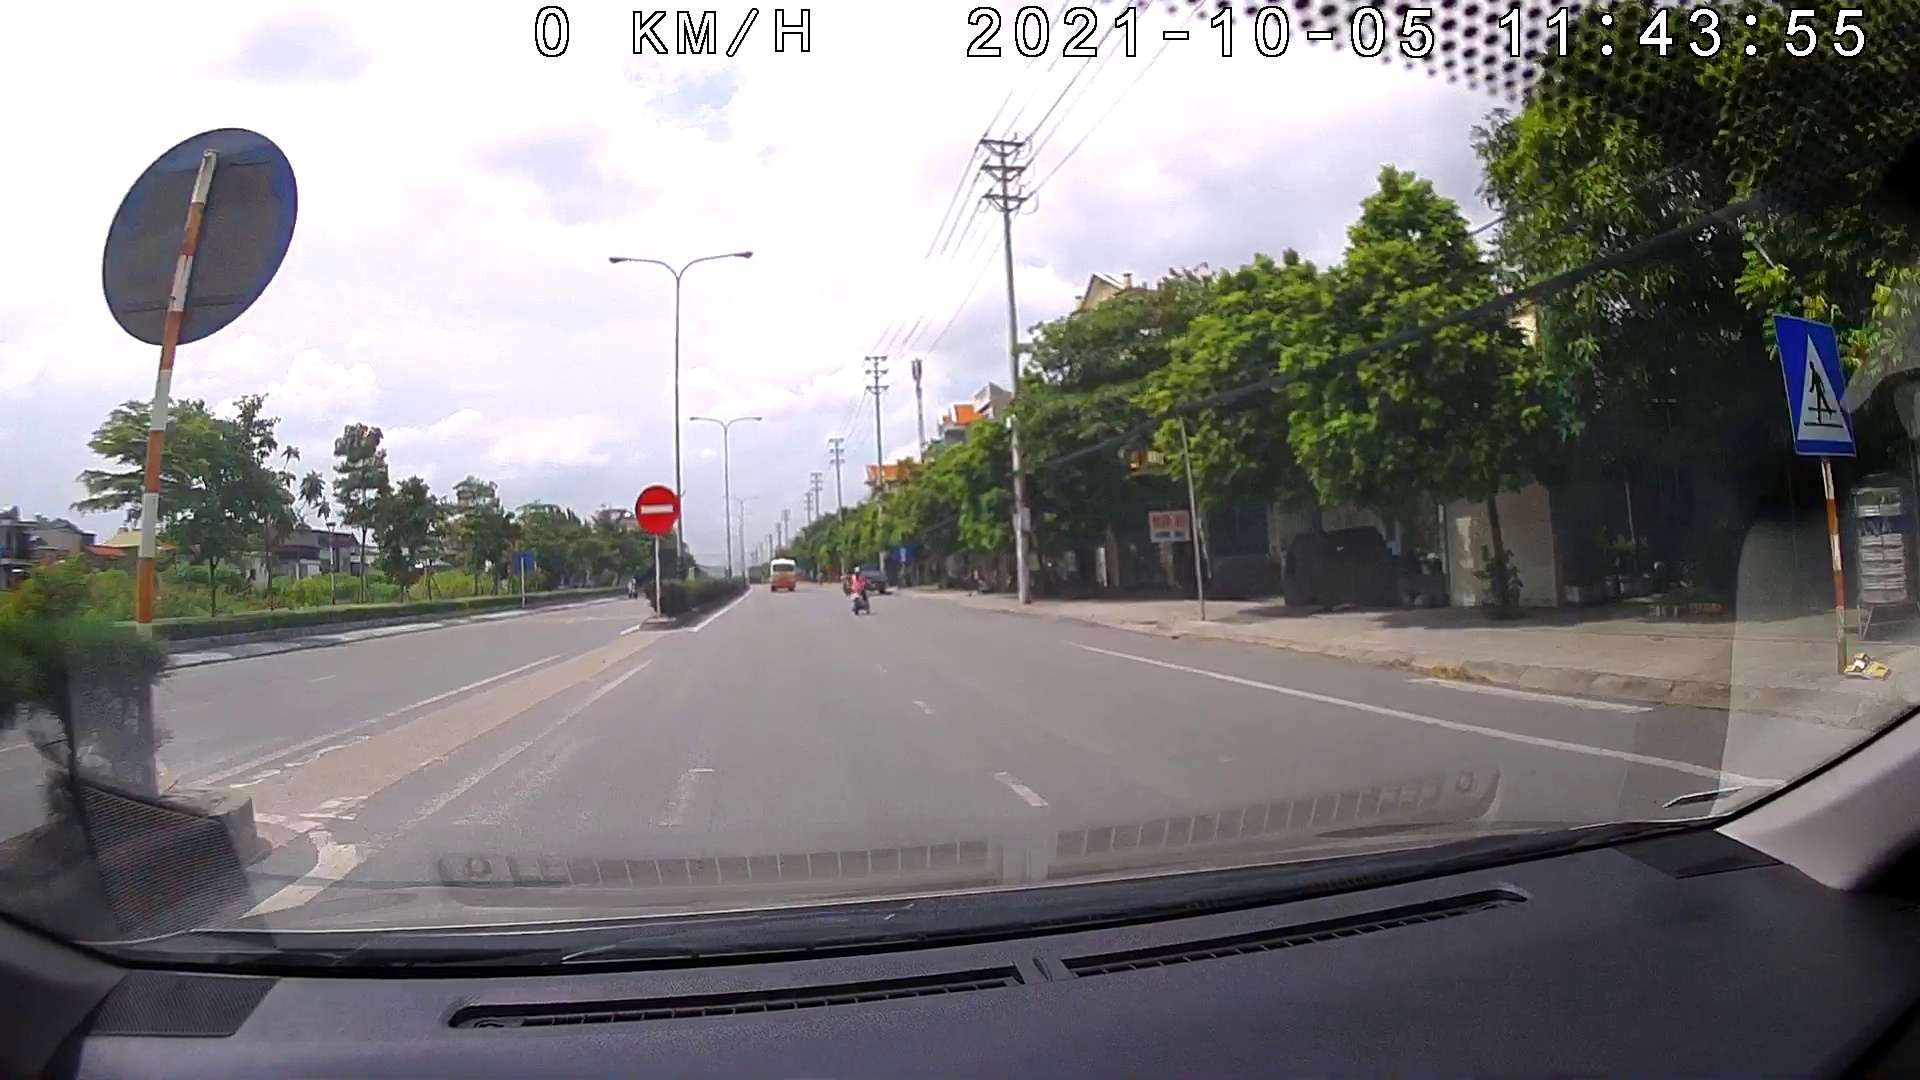Cam di nguoc chieu: (634, 483, 680, 535)
Nguoi di bo: (1768, 311, 1859, 462)
